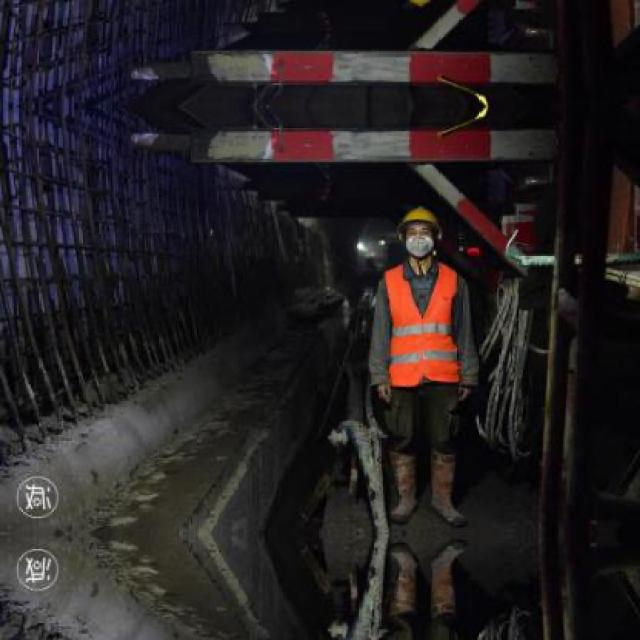con casco: (361, 195, 455, 264)
